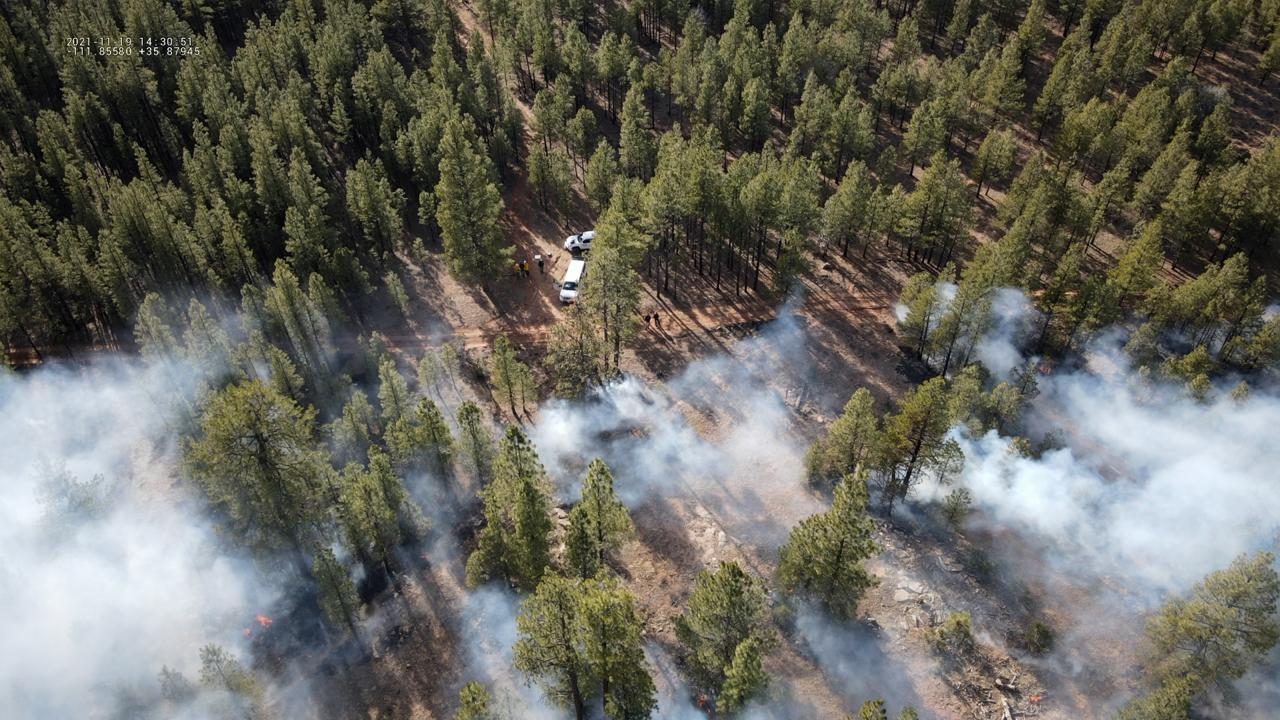fire: (254, 614, 273, 628), (693, 694, 705, 708), (1037, 365, 1052, 375), (238, 628, 251, 638), (707, 707, 711, 713)
smoke: (0, 277, 1280, 720)
